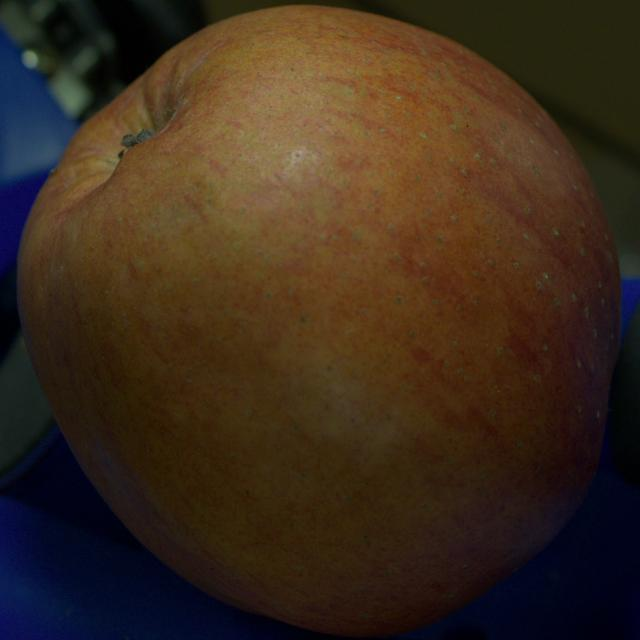apple: (17, 6, 620, 635)
